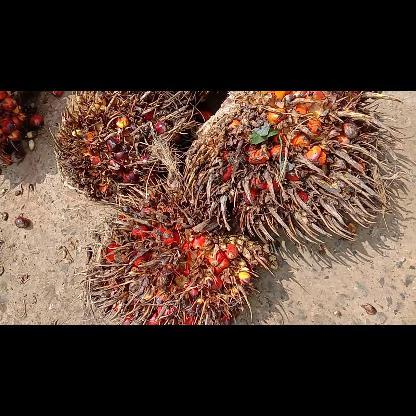Terlalu masak: (179, 90, 415, 252), (80, 188, 274, 324), (51, 90, 203, 208)
